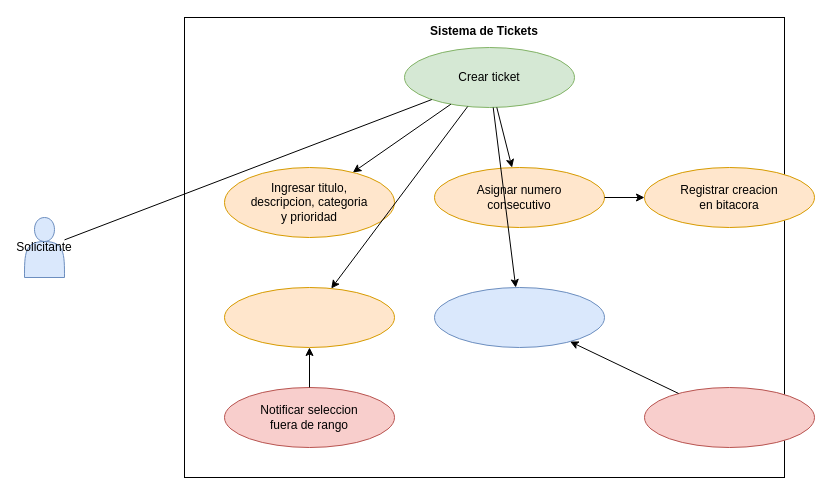
Some shapes in this 832 by 495 pixel diagram are drawn without their labels. Here are the shapes that lost their labels. From the top down, the centre of each, then its label:
the point at 309,317: Seleccionar solicitante
the point at 519,317: Asignar tecnico automaticamente
the point at 729,417: Dejar ticket sin asignar
